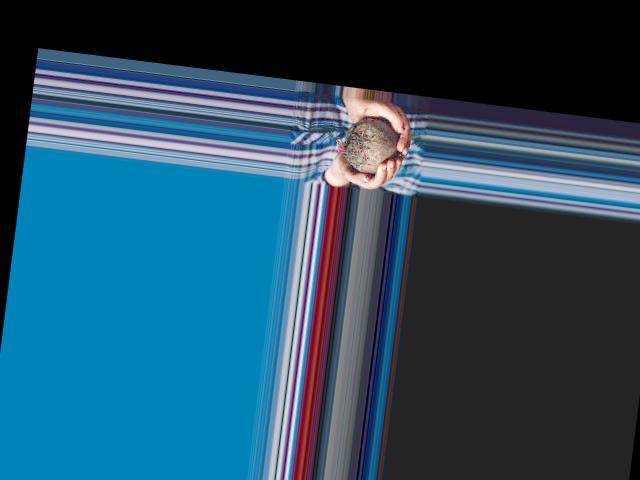beet: (332, 113, 401, 175)
